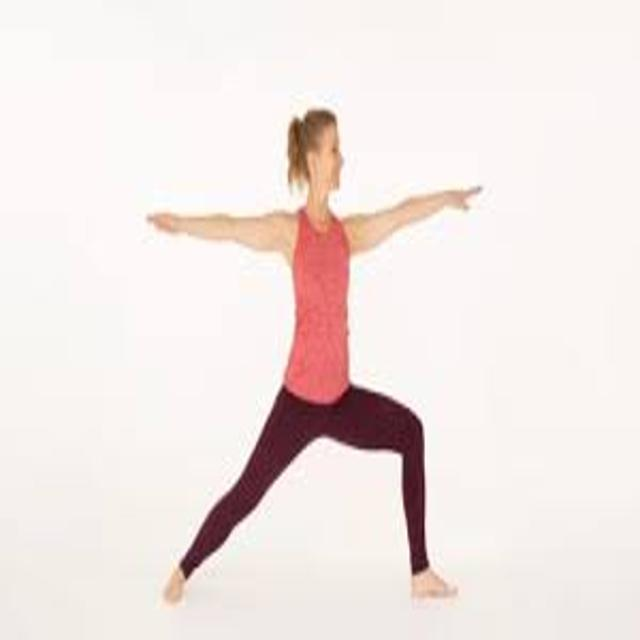Warrior_II: (146, 109, 483, 610)
